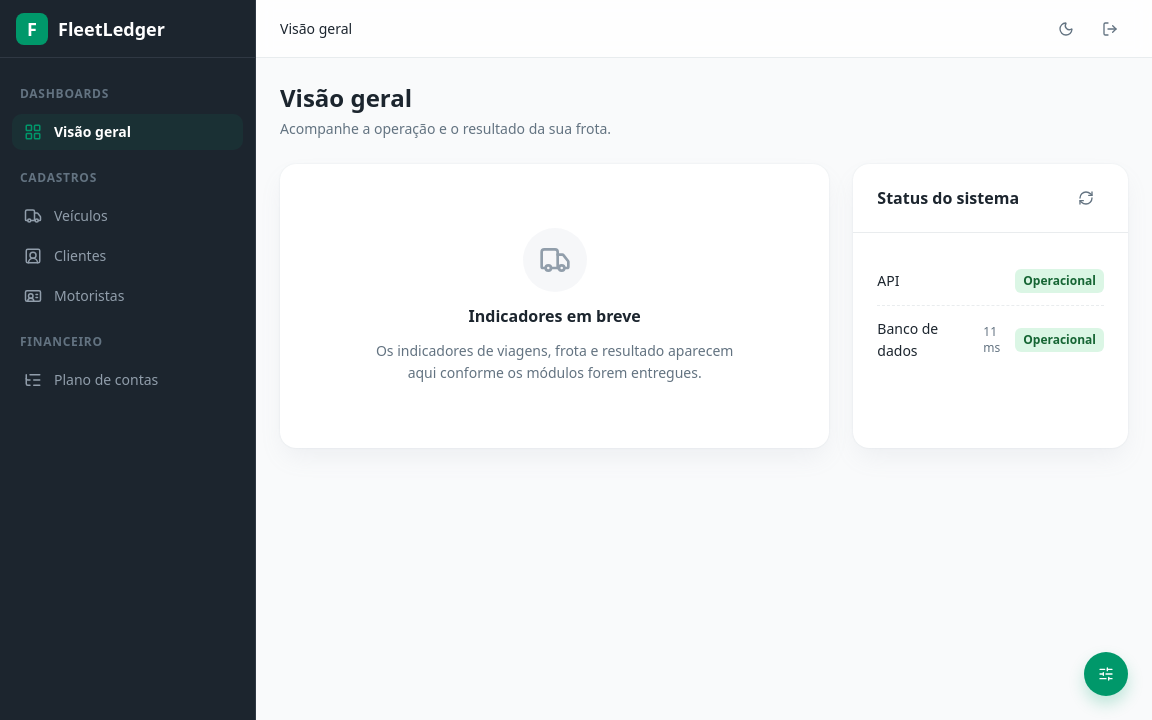
Scenario: session end › returns to login after logout
The image size is (1152, 720).
Click the button named "Sair". click: (1110, 28)
box: left=1092, top=10, right=1128, bottom=46
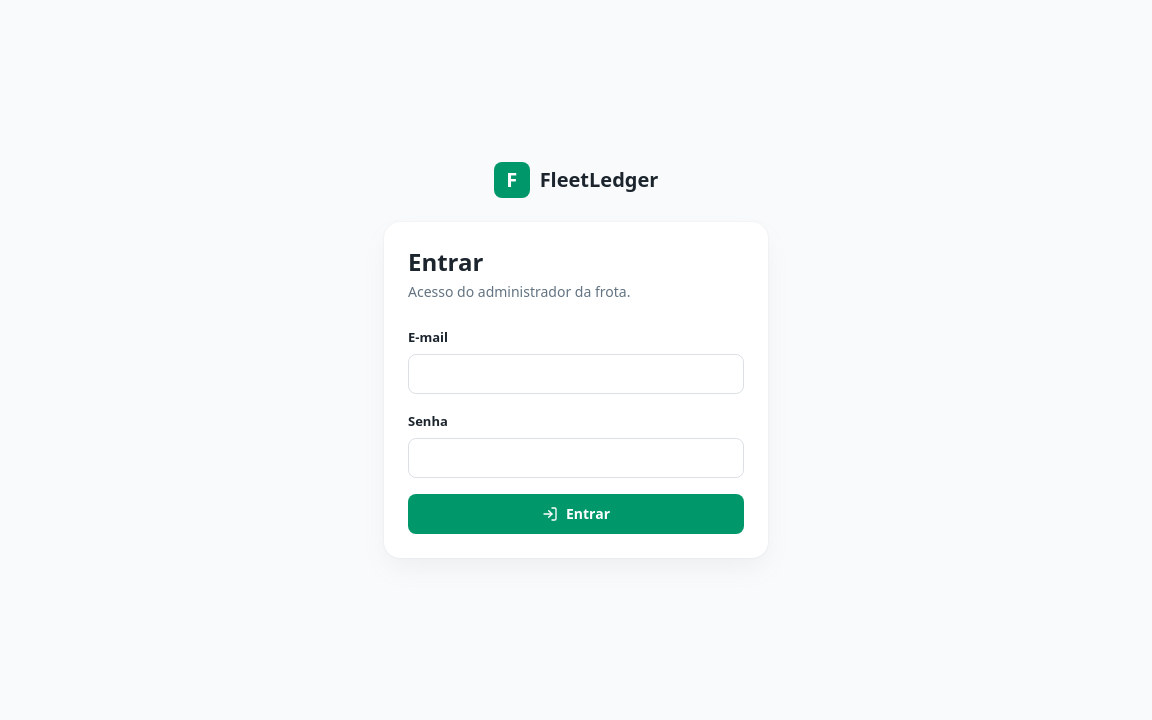
Now the heading "Entrar" is shown, box left=408, top=245, right=483, bottom=278
